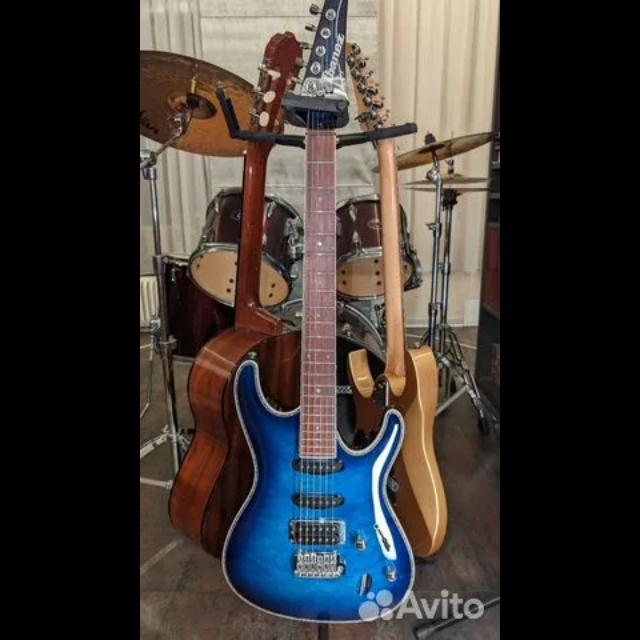Electric-Guitar: (223, 1, 415, 622)
